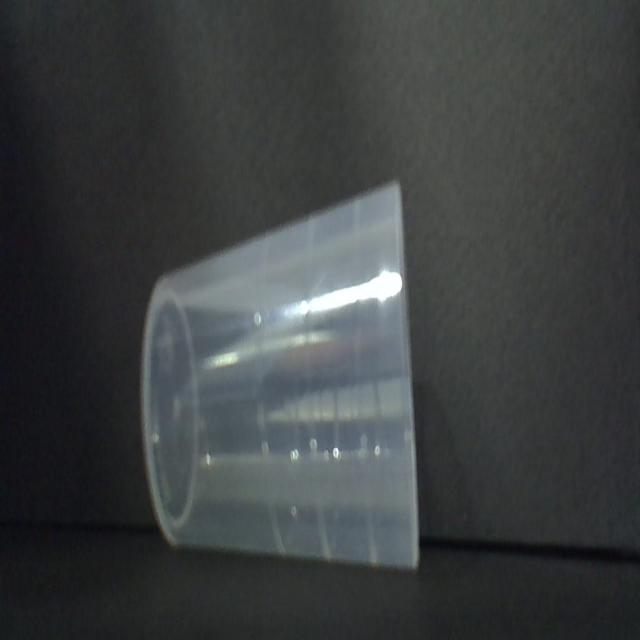cup: (137, 188, 421, 569)
